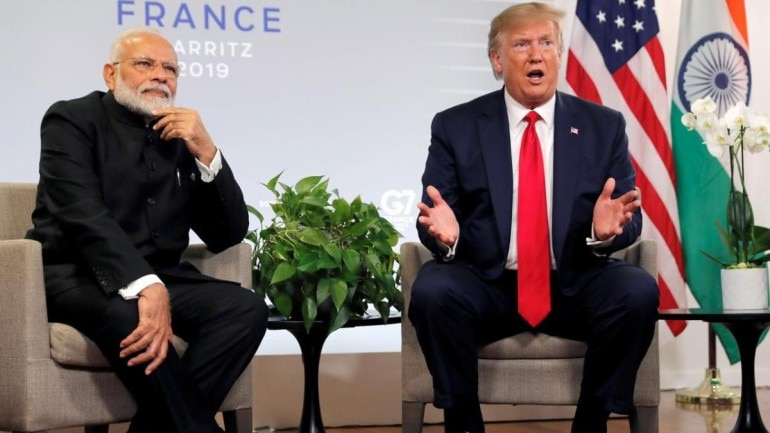modi: (92, 16, 203, 127)
